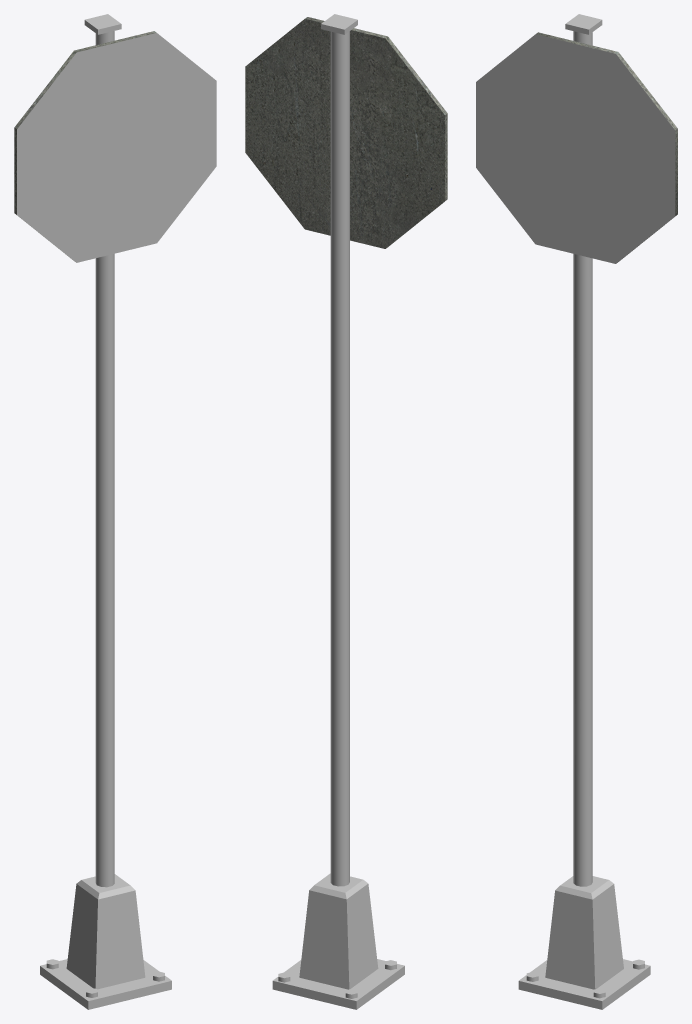
Rendered from DT_Sign_post_type0606.fbx.
3 views of the same model, side by side, from view 1: azimuth 30°, elevation 25°; view 2: azimuth 150°, elevation 25°; view 3: azimuth 330°, elevation 25° (orthographic).
Parts seen in each view (by area): view 1: DT_Sign_post_type0606; view 2: DT_Sign_post_type0606; view 3: DT_Sign_post_type0606.
Part boxes in pixels (box(x1,y1,x2,y2)): DT_Sign_post_type0606: box(14, 14, 216, 1009); DT_Sign_post_type0606: box(245, 14, 447, 1009); DT_Sign_post_type0606: box(476, 14, 677, 1009).
Size of the model in its own units: 57.33 by 264 by 24.11.
